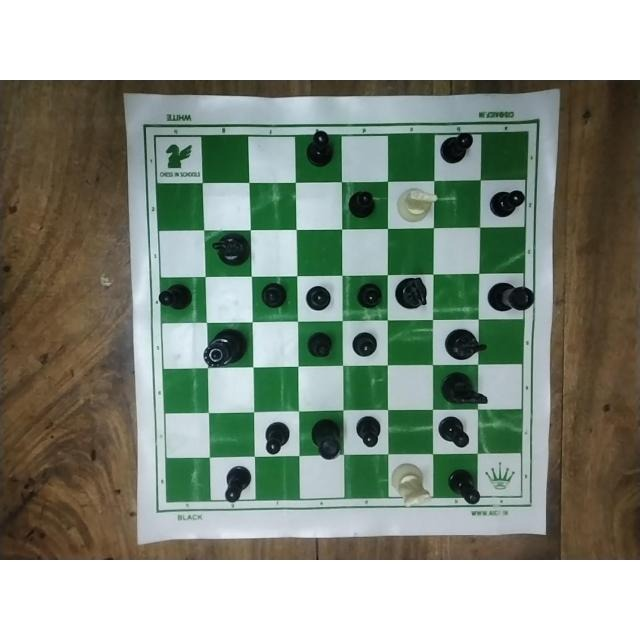black-knight: (435, 370, 492, 406), (438, 324, 488, 360), (208, 230, 256, 266), (394, 275, 432, 314)
black-pawn: (435, 412, 476, 452), (444, 467, 483, 507), (301, 125, 334, 170), (436, 132, 475, 168), (488, 188, 528, 220), (226, 461, 254, 505), (152, 282, 194, 311), (260, 419, 292, 457), (358, 407, 386, 447), (260, 279, 290, 315), (345, 190, 376, 223), (349, 329, 381, 360), (304, 327, 335, 359), (352, 283, 384, 313), (301, 283, 333, 311)
black-queen: (200, 325, 252, 369)
black-rook: (485, 274, 534, 318), (311, 412, 345, 461)
white-knight: (389, 463, 434, 513), (394, 182, 442, 226)
